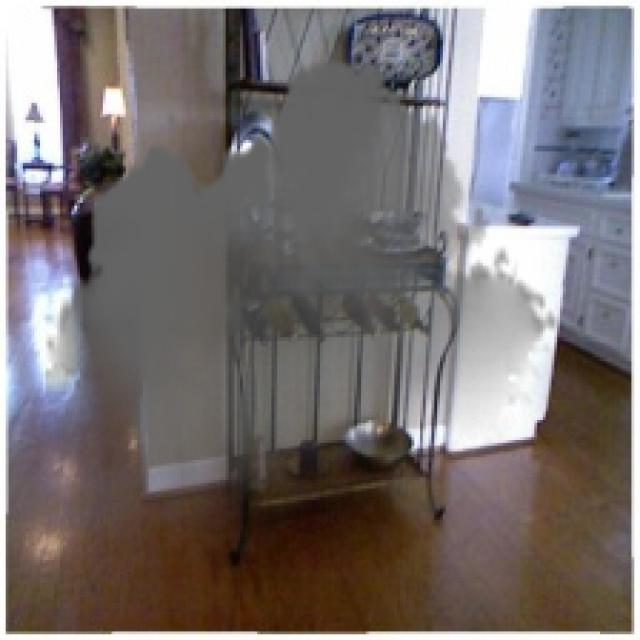smoke: (46, 40, 560, 574)
